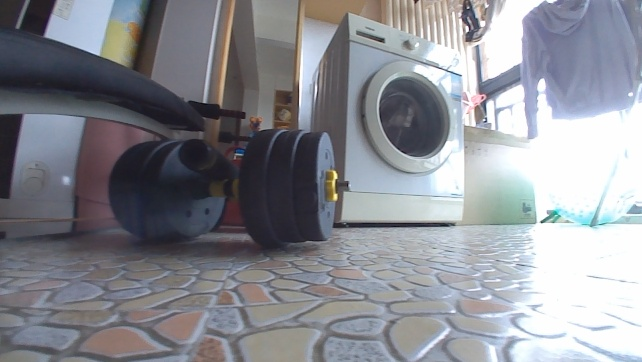washing_machine: (309, 10, 468, 230)
